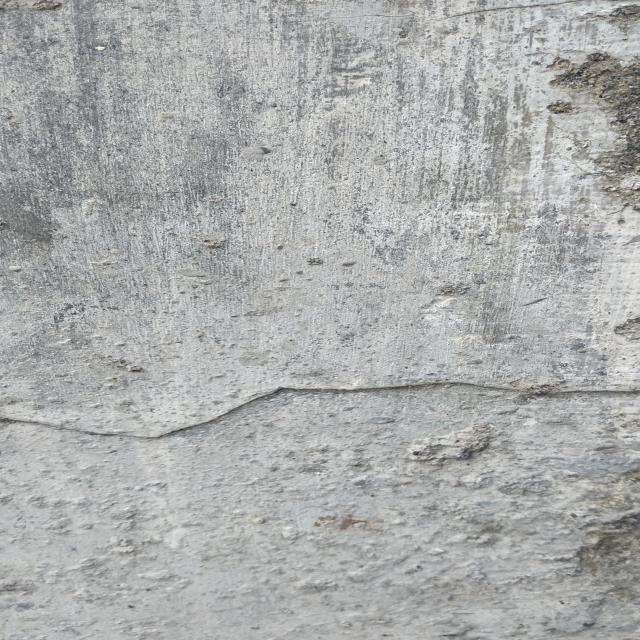Crack: (3, 374, 640, 446)
